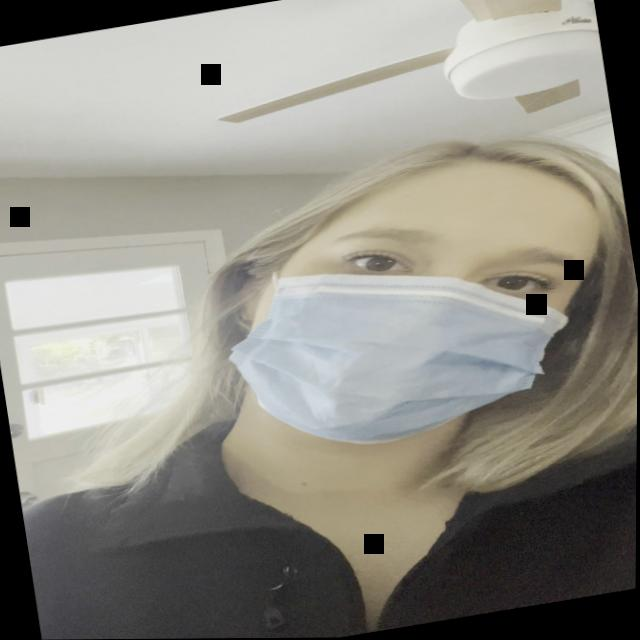Mask: (167, 142, 639, 485)
